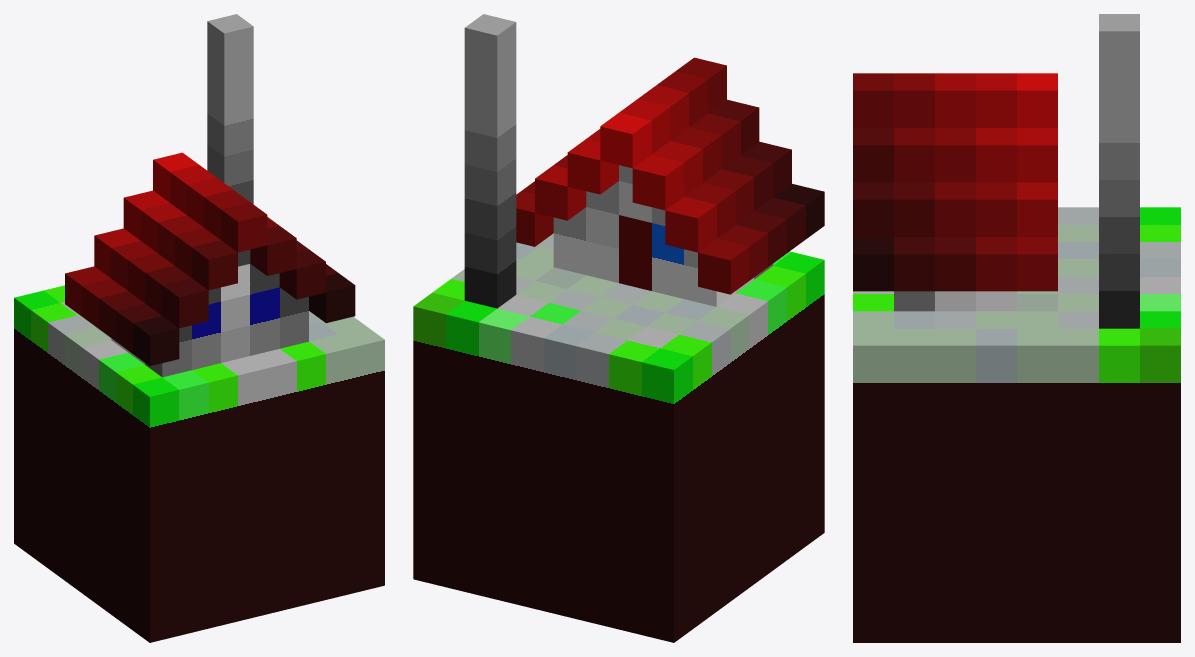
The model's file is town.gltf.
The picture shows the model from 3 angles, left to right: view 1: azimuth 30°, elevation 25°; view 2: azimuth 150°, elevation 25°; view 3: azimuth 270°, elevation 25°; orthographic projection. The views are drawn at different scales.
Parts seen in each view (by area): view 1: Content-Mesh; view 2: Content-Mesh; view 3: Content-Mesh.
Boxes of the visible parts, left/top/right/bottom form: Content-Mesh: left=14, top=14, right=384, bottom=642; Content-Mesh: left=413, top=14, right=824, bottom=642; Content-Mesh: left=853, top=14, right=1180, bottom=642.
Size of the model in its own units: 8 by 16 by 8.
1 material, 1 textured.
